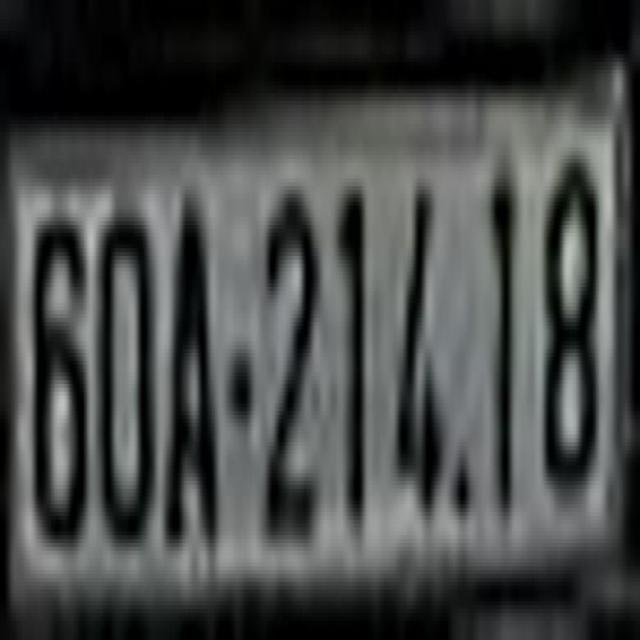0: (98, 202, 154, 535)
1: (486, 178, 518, 558), (333, 175, 366, 539)
2: (268, 194, 319, 547)
4: (394, 166, 442, 558)
6: (34, 213, 88, 551)
8: (540, 140, 600, 497)
A: (166, 166, 219, 558)
